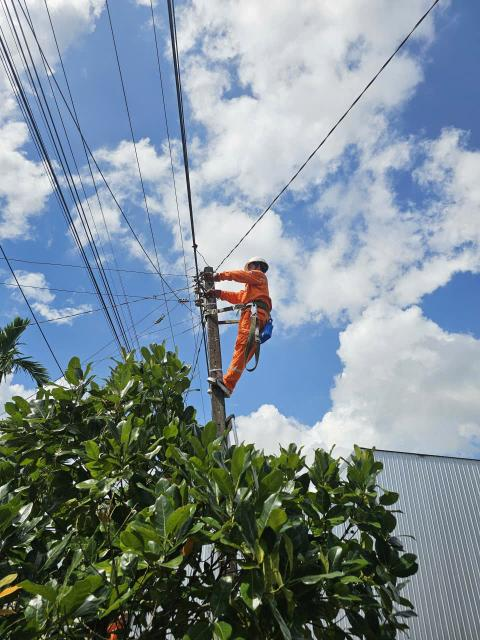gloves: (189, 287, 228, 300), (187, 268, 223, 282)
harness: (218, 298, 297, 327)
helmet: (234, 252, 273, 272)
shoes: (208, 368, 233, 404)
